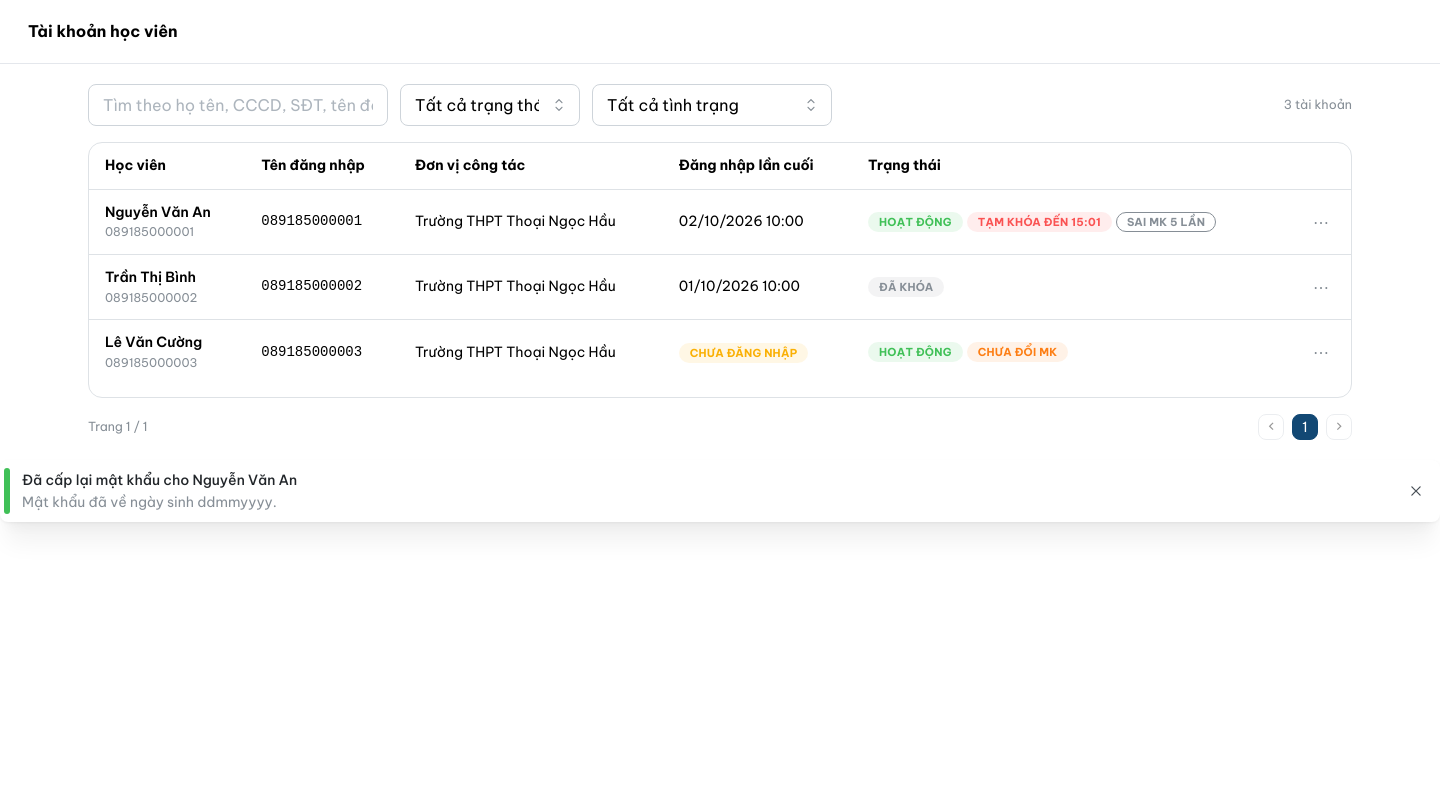
Test: Admin — Tài khoản học viên › cấp lại mật khẩu: lỗi API hiện thông báo lỗi
The image size is (1440, 810).
Click the button "⋯" in the row of "Lê Văn Cường". click: [1321, 352]
box: left=1307, top=338, right=1335, bottom=366
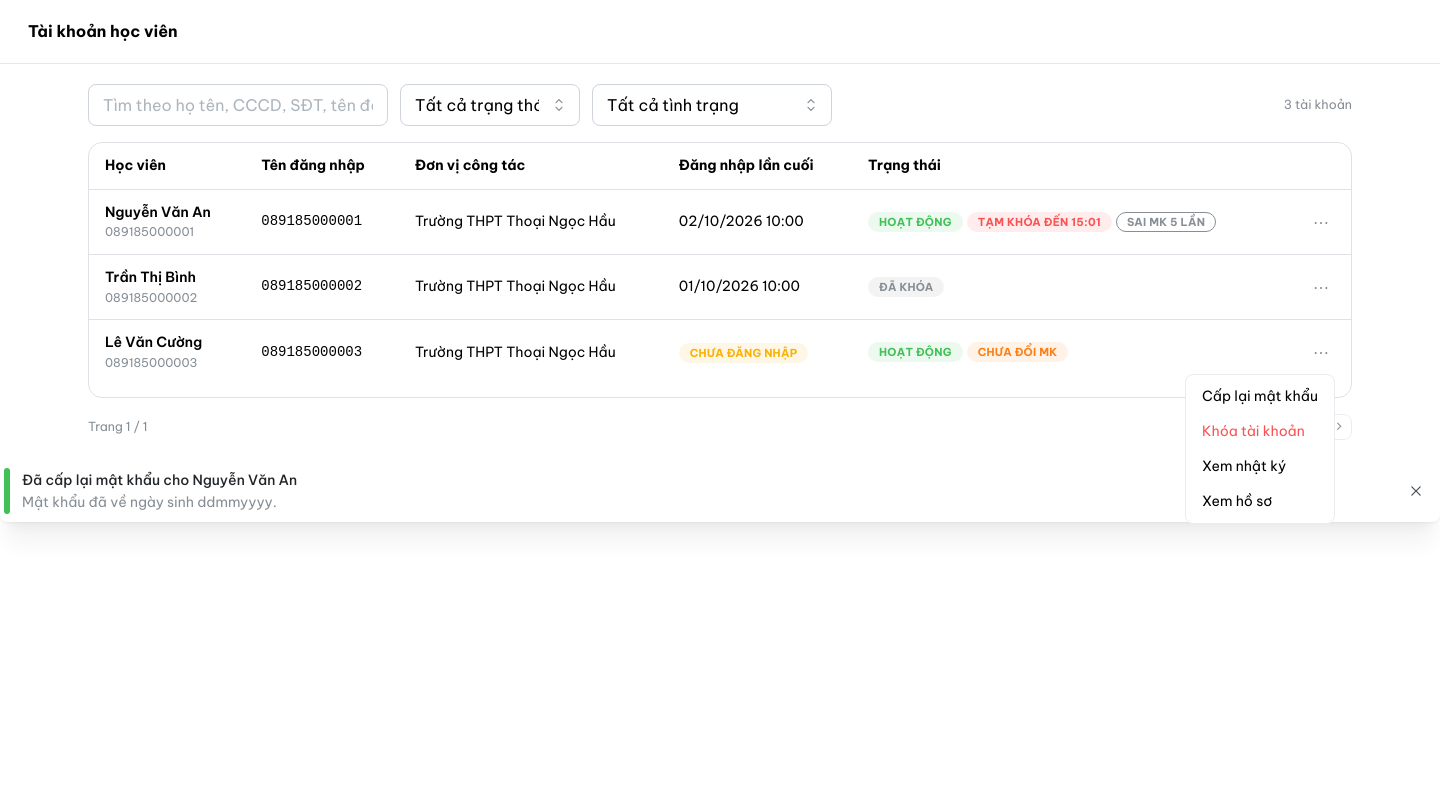
Click the menu item "Cấp lại mật khẩu". click: [1260, 397]
box: left=1190, top=379, right=1330, bottom=414
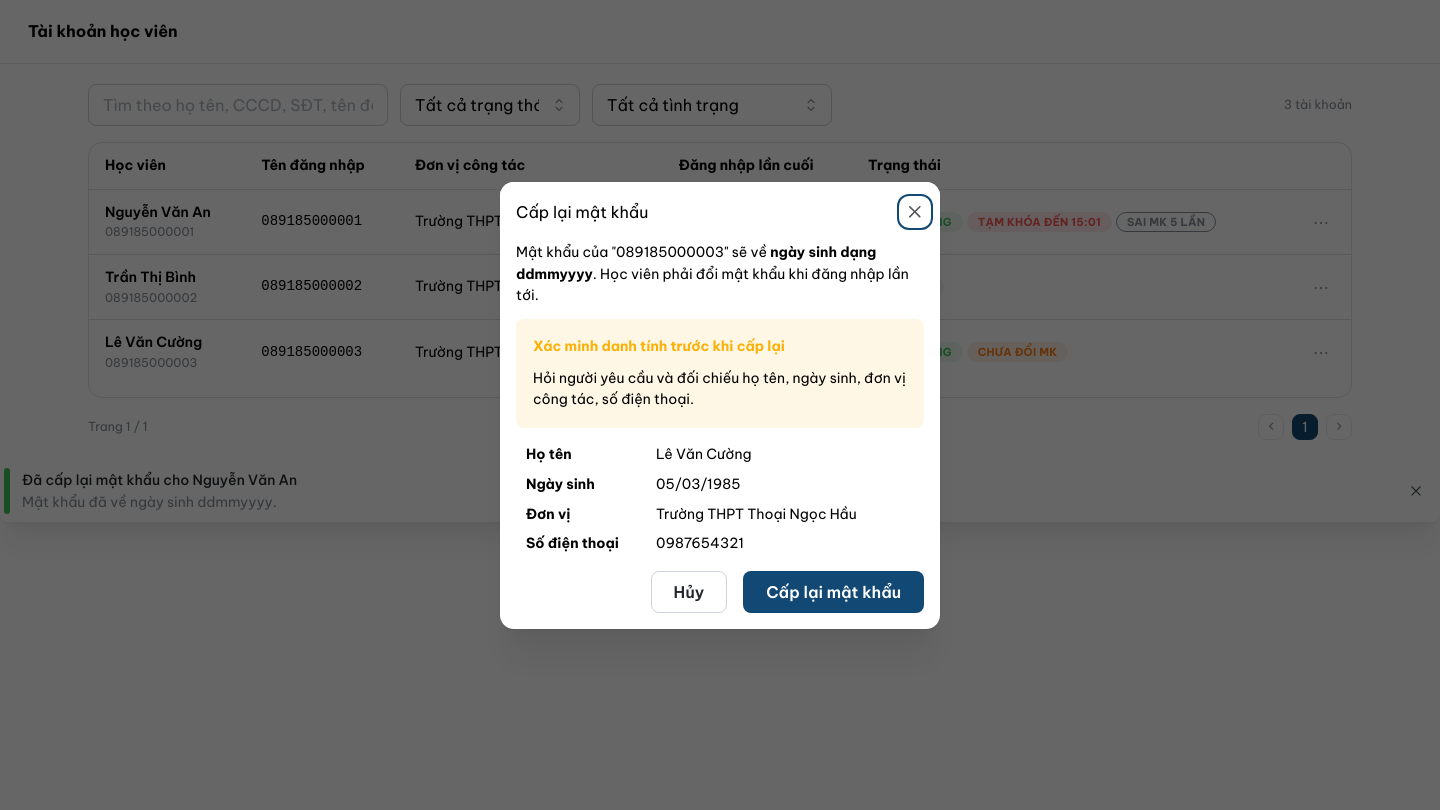
Click the button "Cấp lại mật khẩu". click: [834, 591]
box: left=743, top=570, right=924, bottom=612
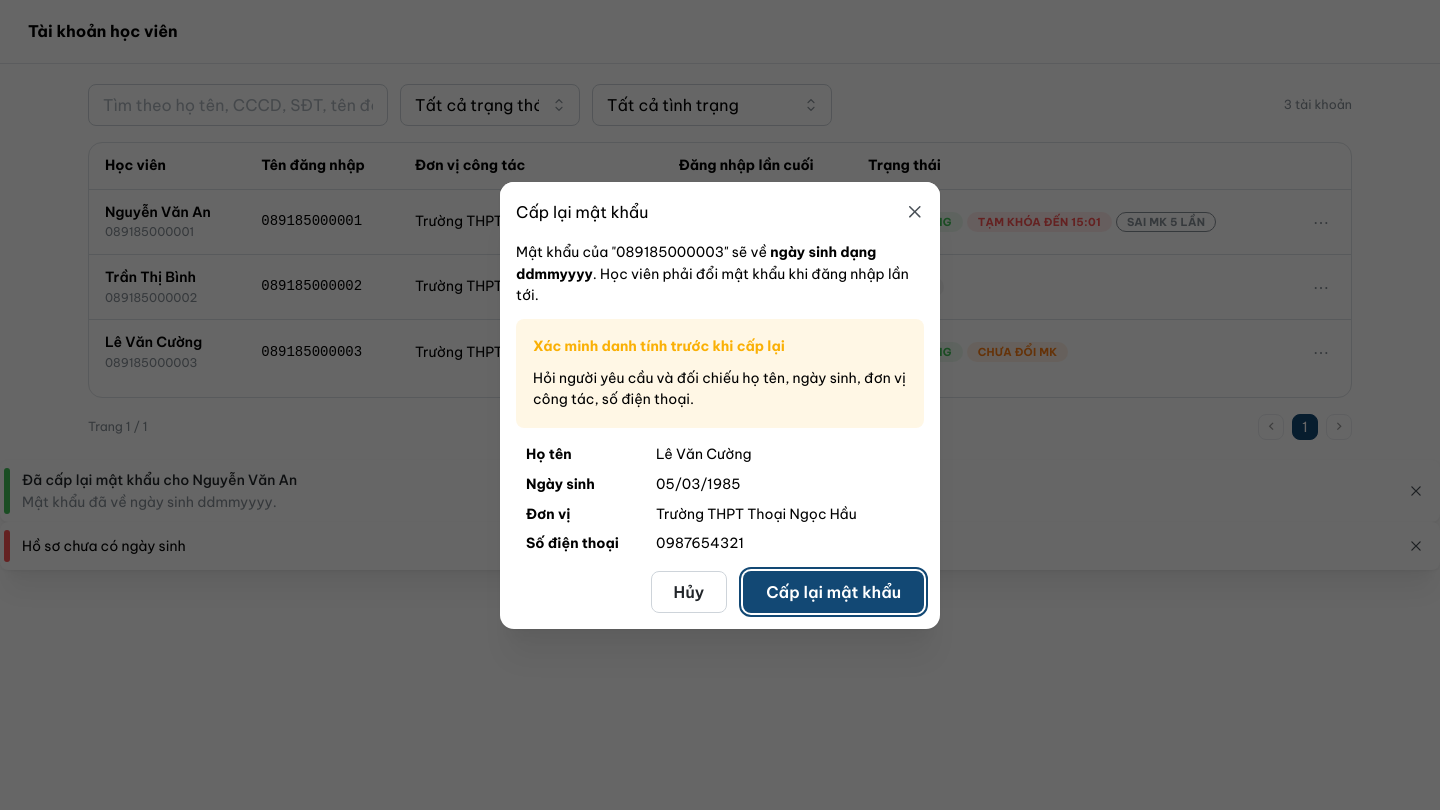
Expected: the text "Hồ sơ chưa có ngày sinh" is shown, left=22, top=537, right=186, bottom=555
